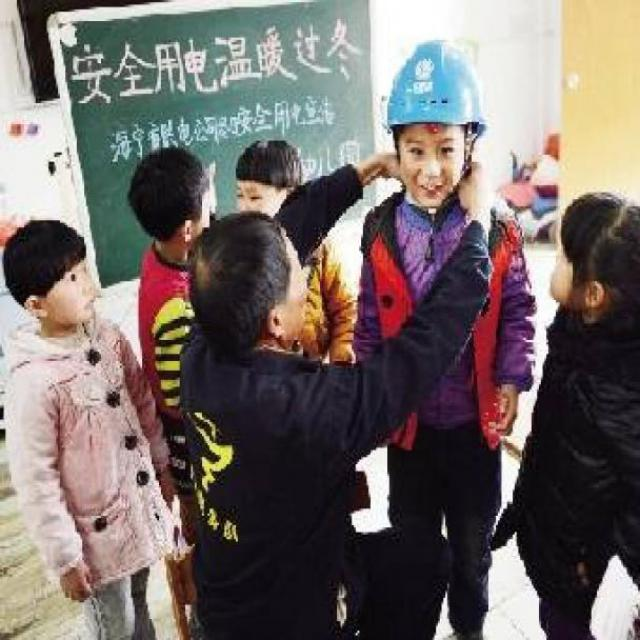helmet: (374, 28, 481, 216)
